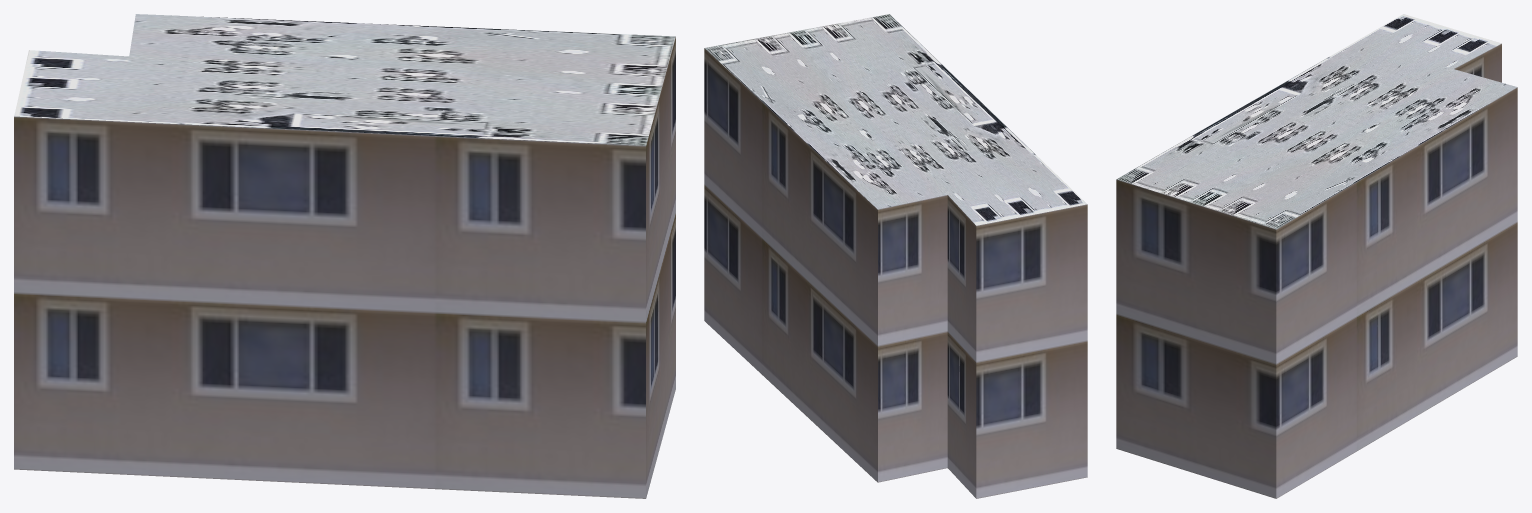
File: ResTex__824.fbx
3 views of the same model, side by side, from view 1: azimuth 30°, elevation 25°; view 2: azimuth 150°, elevation 25°; view 3: azimuth 270°, elevation 25° (orthographic). The views are drawn at different scales.
Parts seen in each view (by area): view 1: CityEngineMaterial_21_m, CityEngineMaterial_8_m; view 2: CityEngineMaterial_21_m, CityEngineMaterial_8_m; view 3: CityEngineMaterial_21_m, CityEngineMaterial_8_m.
Boxes of the visible parts, x1,y1,x2,y2 form: CityEngineMaterial_21_m: (14, 37, 675, 498); CityEngineMaterial_8_m: (14, 14, 675, 145); CityEngineMaterial_21_m: (704, 48, 1087, 498); CityEngineMaterial_8_m: (705, 14, 1086, 225); CityEngineMaterial_21_m: (1116, 43, 1517, 498); CityEngineMaterial_8_m: (1116, 14, 1517, 229).
Size of the model in its own units: 10.29 by 6 by 8.1.
Materials: 2 (2 with a texture image).
